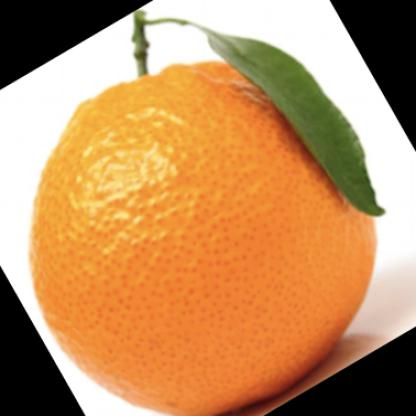orange: (24, 46, 385, 416)
